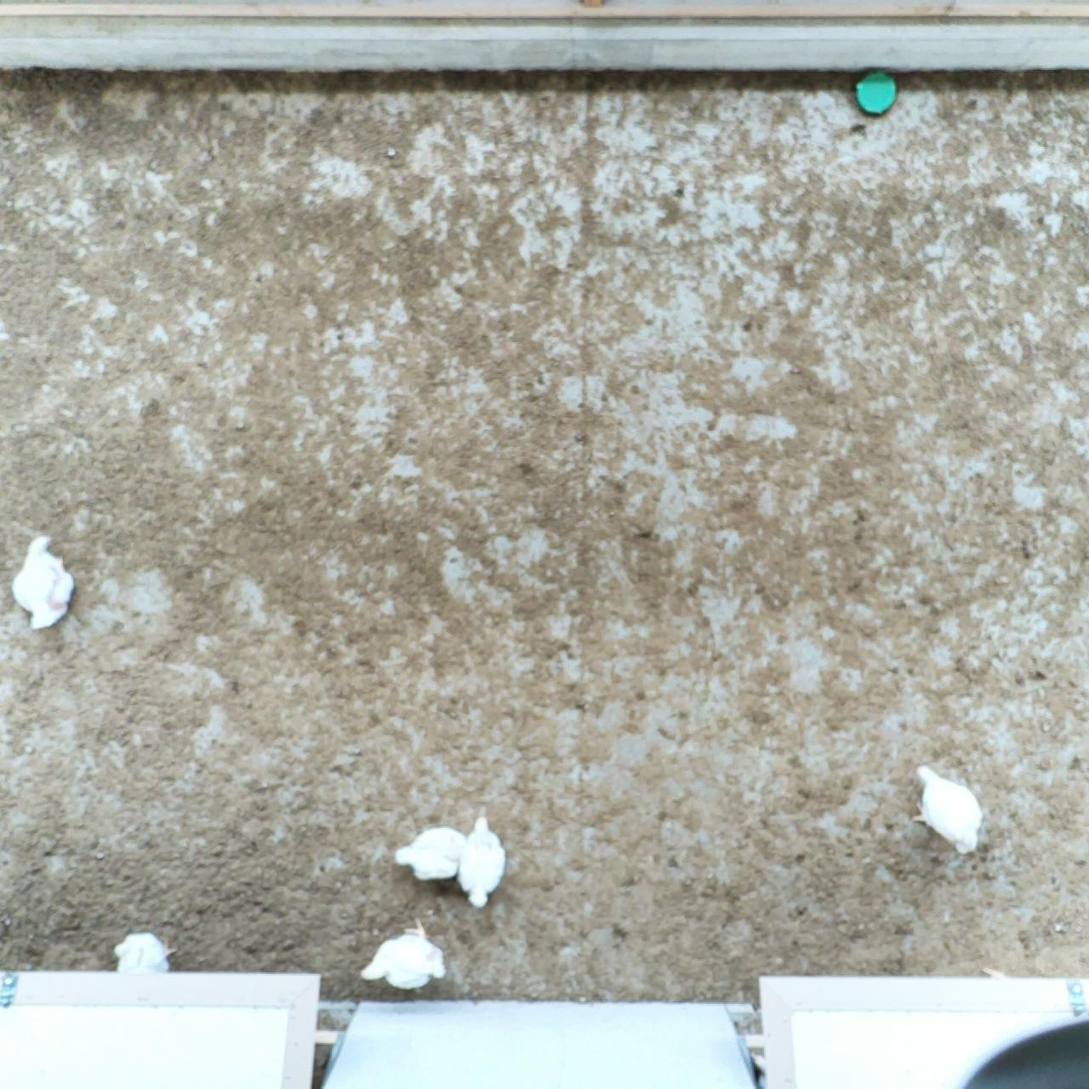chicken: (906, 757, 989, 862), (7, 526, 79, 637), (353, 915, 450, 994), (455, 811, 511, 913), (392, 819, 468, 888), (108, 926, 179, 981)
